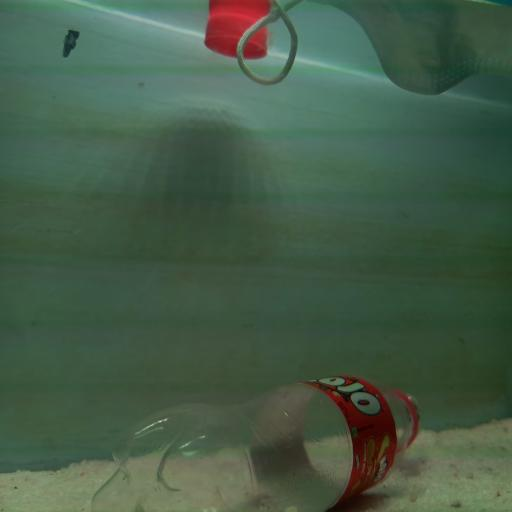bottle_cap: (205, 13, 269, 62)
mask: (234, 0, 512, 95)
plastic_bottle: (93, 373, 423, 512)
